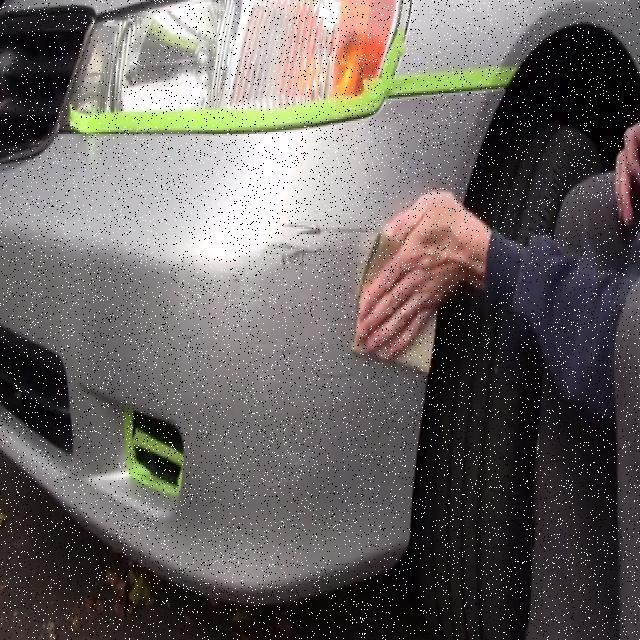hood: (7, 125, 480, 592)
